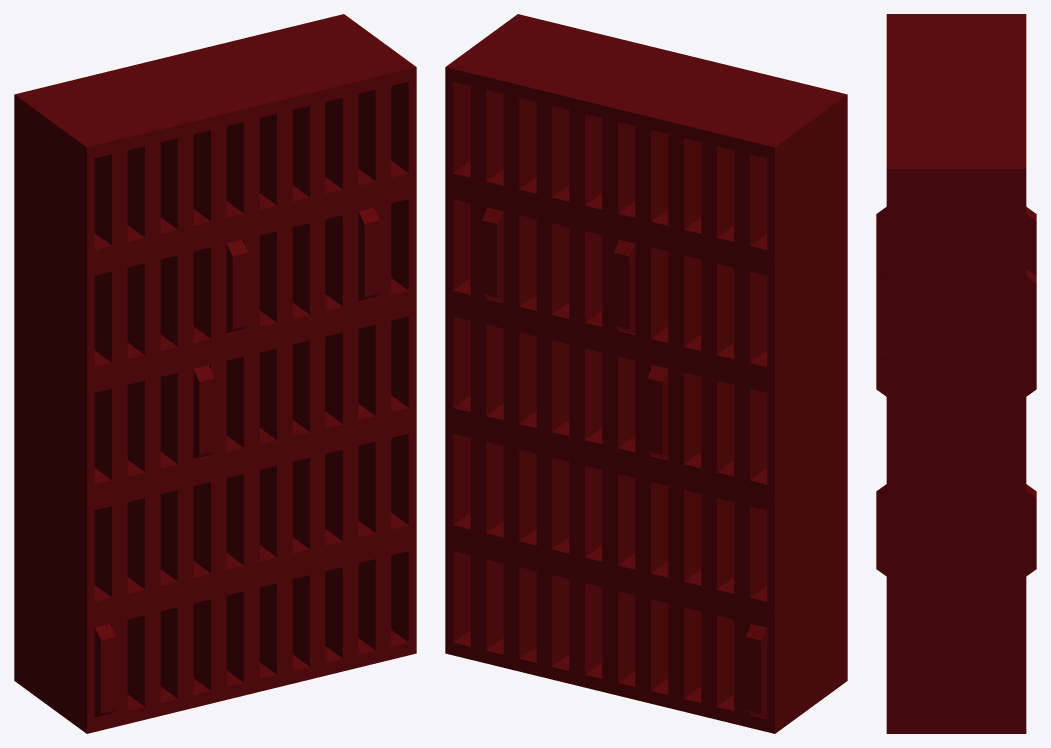
The model's file is Library_Shelf_5_Tall_Few.fbx.
3 renders of one model, left to right at view 1: azimuth 30°, elevation 25°; view 2: azimuth 150°, elevation 25°; view 3: azimuth 270°, elevation 25°, orthographic. The views are drawn at different scales.
Visible parts, largest first — view 1: Shelf; view 2: Shelf; view 3: Shelf.
Part boxes in pixels (x1=…): Shelf: x1=14, y1=14, x2=416, y2=733; Shelf: x1=445, y1=14, x2=847, y2=733; Shelf: x1=876, y1=14, x2=1036, y2=733.
Bounding box in the file's own units: 525 × 893 × 230.
